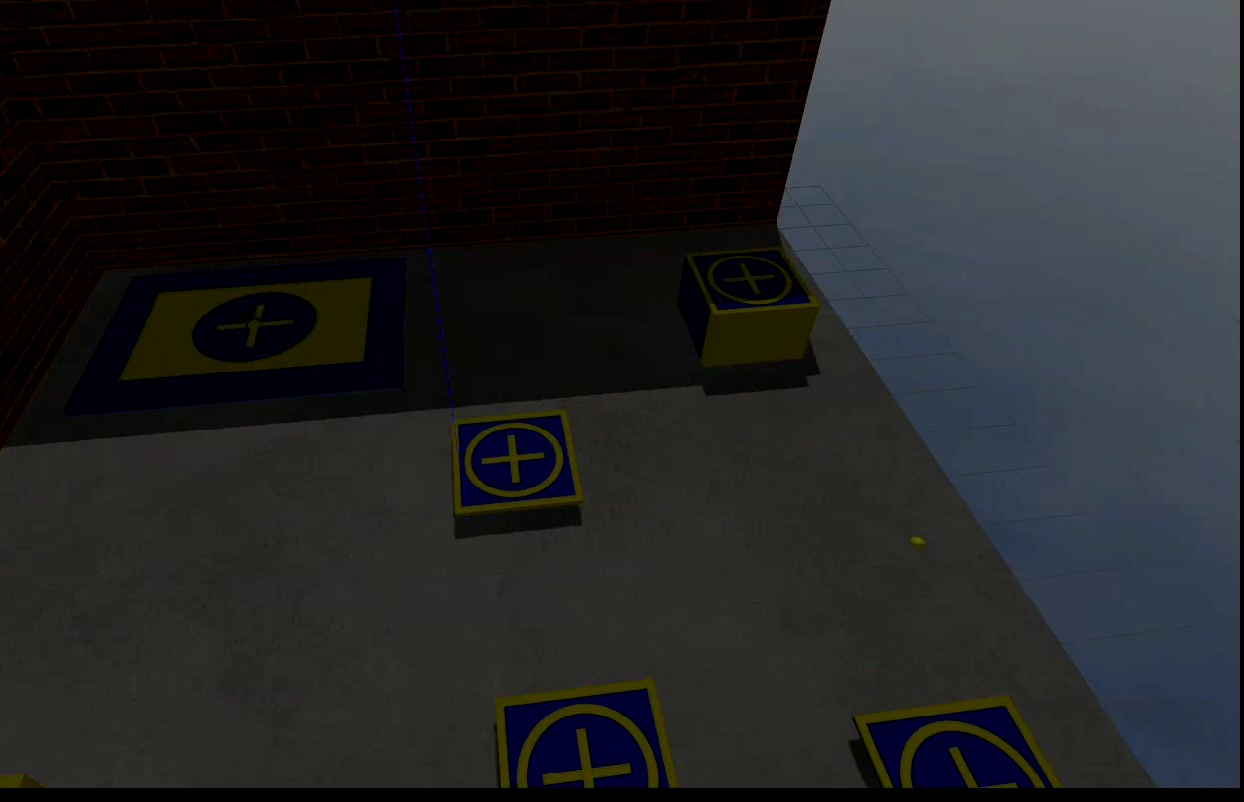large_base: (60, 261, 411, 420)
small_base: (495, 679, 679, 788), (854, 693, 1064, 787), (451, 408, 587, 519), (690, 252, 824, 319)
